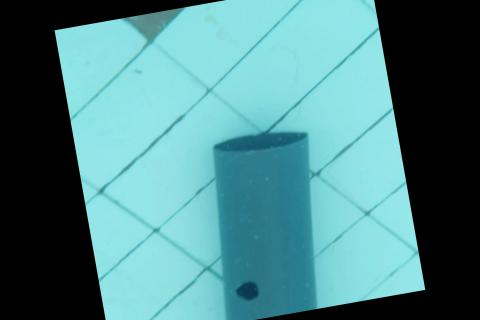kebocoran: (234, 278, 262, 303)
